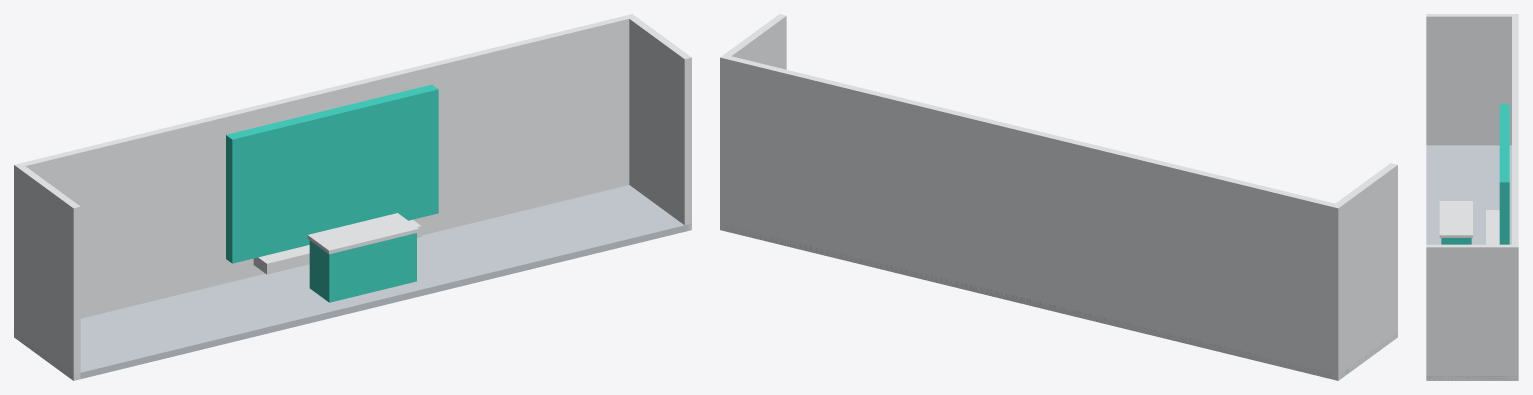
3 renders of one model, left to right at view 1: azimuth 30°, elevation 25°; view 2: azimuth 150°, elevation 25°; view 3: azimuth 270°, elevation 25°, orthographic. The views are drawn at different scales.
Parts seen in each view (by area): view 1: Exhibition Booth Concept; view 2: Exhibition Booth Concept; view 3: Exhibition Booth Concept.
Part boxes in pixels (<box>): Exhibition Booth Concept: <box>14,14,691,380</box>; Exhibition Booth Concept: <box>720,14,1397,380</box>; Exhibition Booth Concept: <box>1426,14,1518,380</box>.
Size of the model in its own units: 12 by 3.2 by 2.
